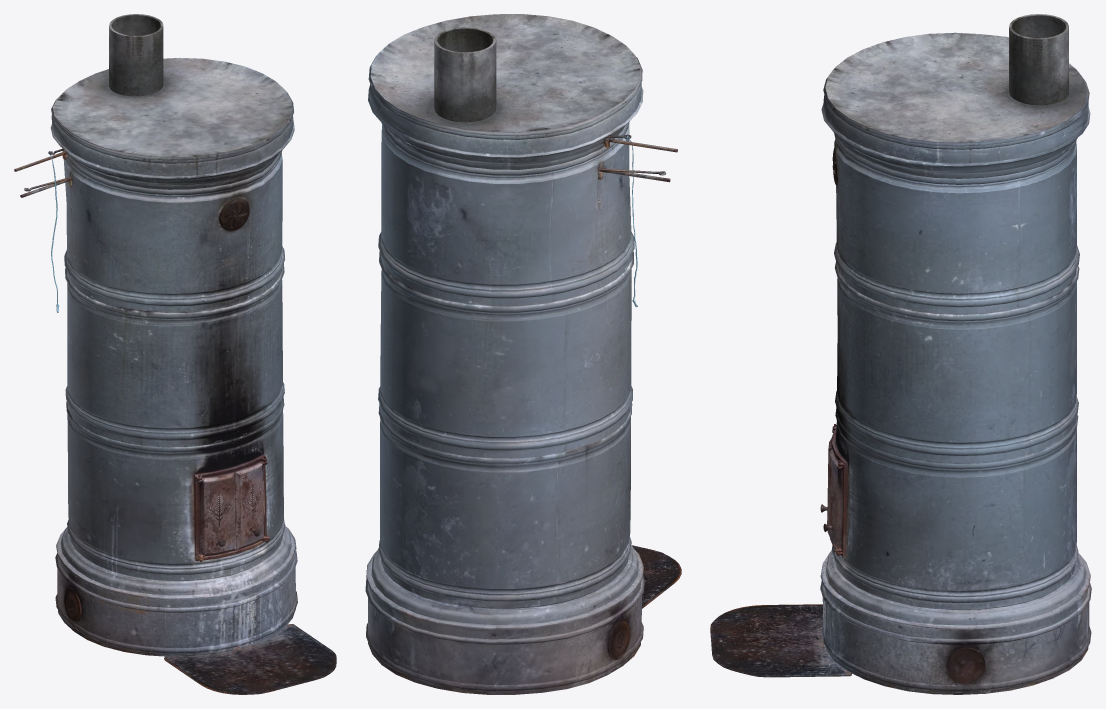
The model's file is scandinavian_masonry_heater.glb.
3 views of the same model, side by side, from view 1: azimuth 30°, elevation 25°; view 2: azimuth 150°, elevation 25°; view 3: azimuth 270°, elevation 25° (orthographic). The views are drawn at different scales.
Visible parts, largest first — view 1: scandinavian_masonry_heater; view 2: scandinavian_masonry_heater; view 3: scandinavian_masonry_heater.
Part boxes in pixels (x1,y1,x2,y2): scandinavian_masonry_heater: [14, 14, 336, 694]; scandinavian_masonry_heater: [365, 14, 681, 694]; scandinavian_masonry_heater: [710, 14, 1091, 694].
Bounding box in the file's own units: 1.17 × 2.36 × 1.34.
Materials: 1 (1 with a texture image).
